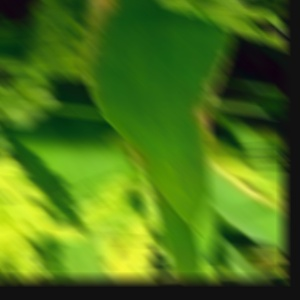Leaf_Blast: (145, 24, 227, 196)
